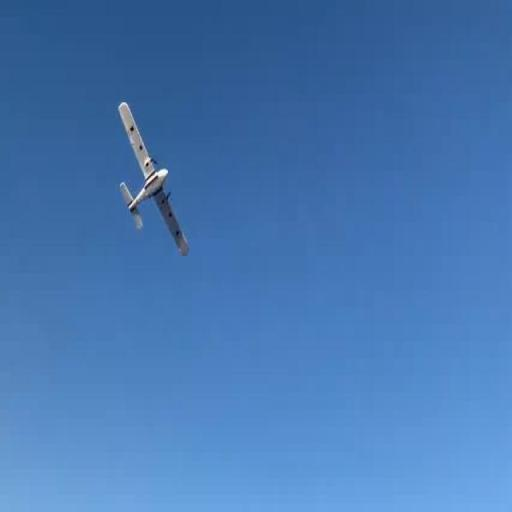uav: (112, 89, 194, 267)
